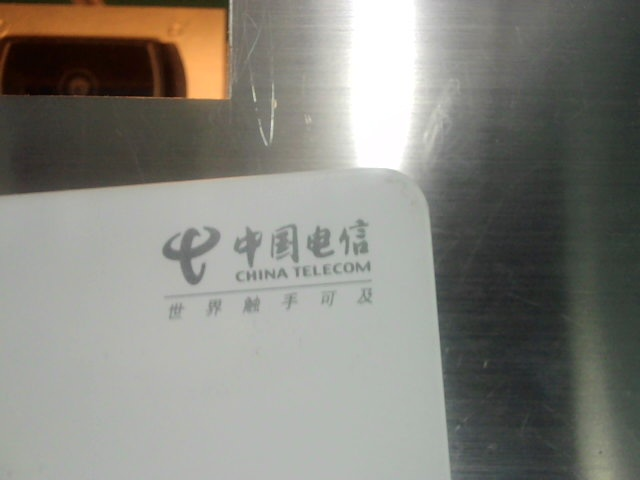AB_ChinaTelecom: (149, 211, 398, 322)
